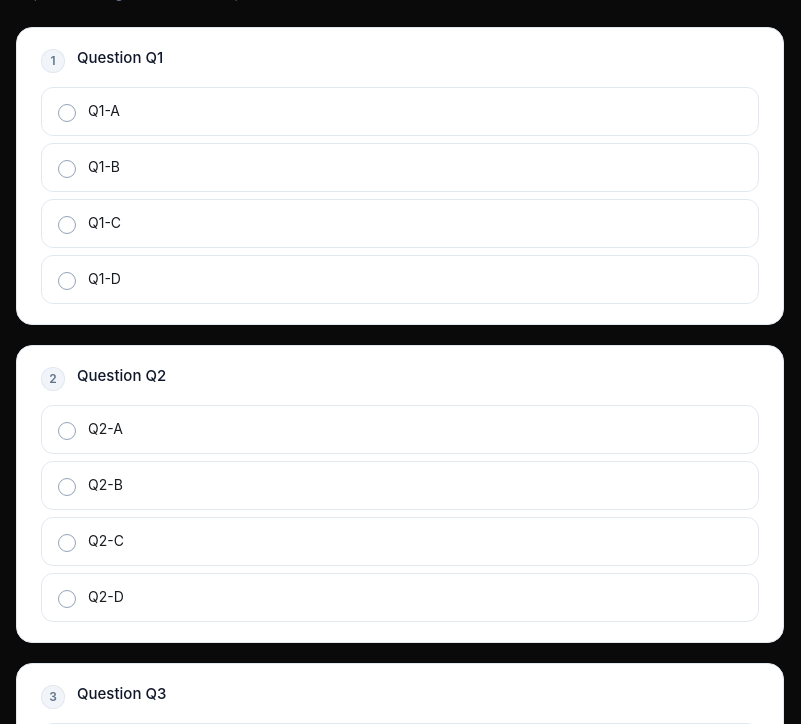
Scenario: Redex Academy learner quiz — Submit/retake state machine › keeps submit disabled until all questions are answered
What coordinates should you click on to do the following:
click the radio button labelled "Q1-A"
I would click on:
 (104, 110)
Its box is [41,87,759,136].
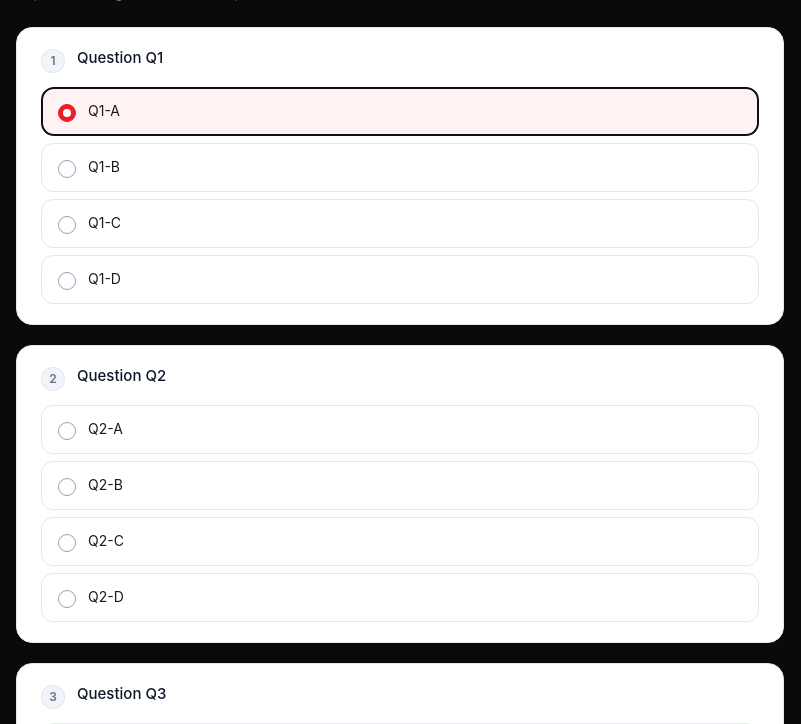
What coordinates should you click on to do the following:
click the radio button labelled "Q2-B"
I would click on:
 (105, 484)
Its box is [41,461,759,510].
(page scrolled)
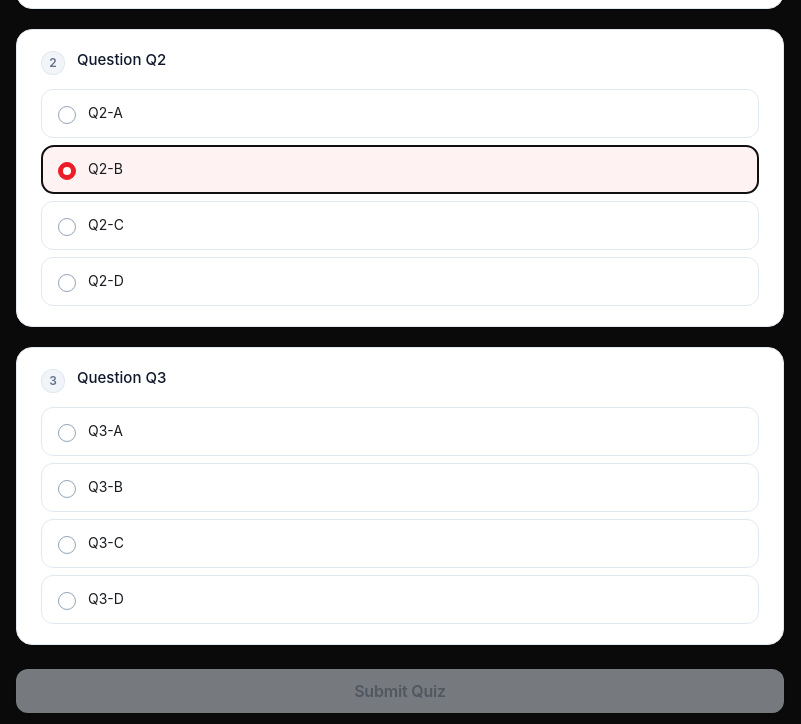
Check: the button "Submit Quiz" is disabled, box [16,669,784,713]
What coordinates should you click on to do the following:
click the radio button labelled "Q3-C"
I would click on:
 (106, 542)
Its box is [41,519,759,568].
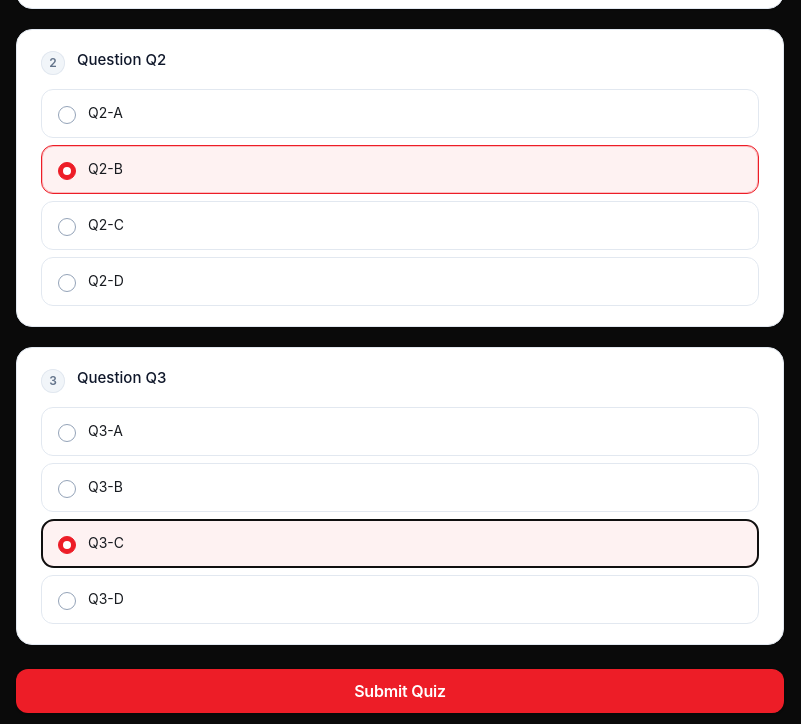
Check: the button "Submit Quiz" is enabled, box [16,669,784,713]
